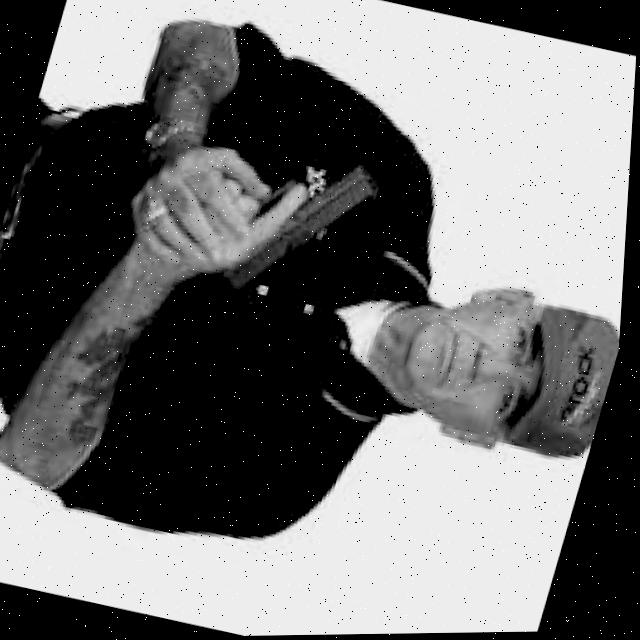pistol: (222, 144, 392, 313)
